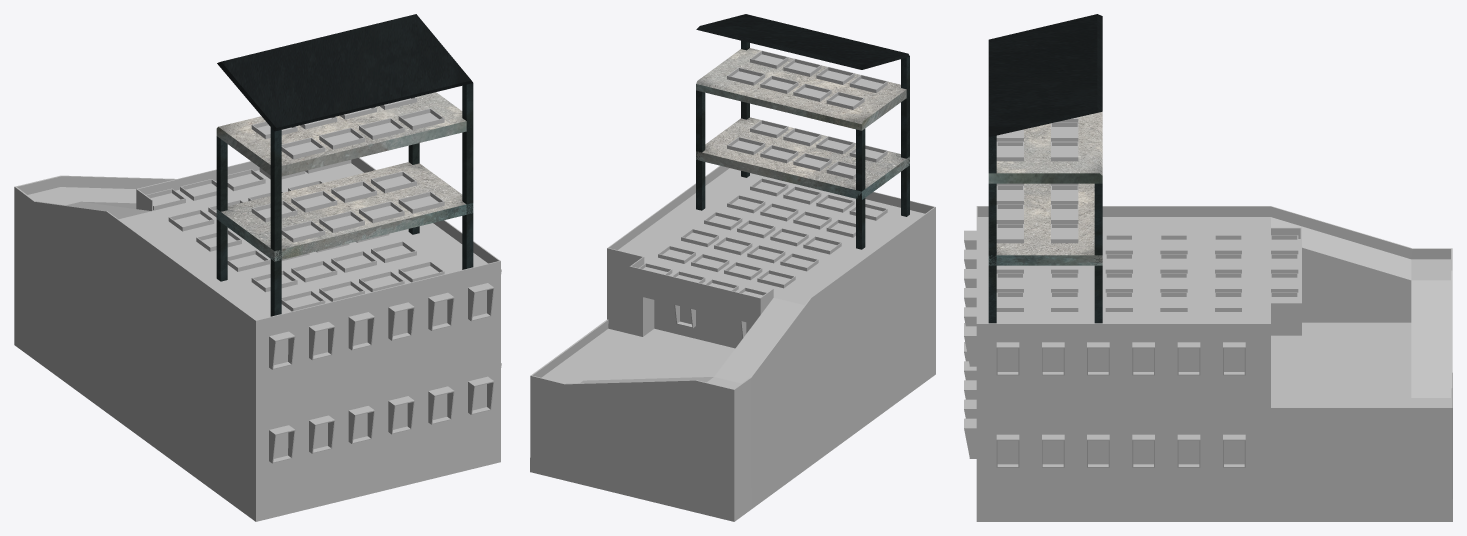
Rendered from ENV_Interest_Garden_v2.fbx.
3 views of the same model, side by side, from view 1: azimuth 30°, elevation 25°; view 2: azimuth 150°, elevation 25°; view 3: azimuth 270°, elevation 25° (orthographic). The views are drawn at different scales.
Parts seen in each view (by area): view 1: ENV_GardenBuilding1, ENV_GardenFloors, ENV_planters; view 2: ENV_GardenBuilding1, ENV_GardenFloors, ENV_planters; view 3: ENV_GardenBuilding1, ENV_GardenFloors, ENV_planters.
Boxes of the visible parts, x1,y1,x2,y2 form: ENV_GardenBuilding1: (14, 157, 501, 521); ENV_GardenFloors: (216, 14, 473, 316); ENV_planters: (146, 97, 444, 311); ENV_GardenBuilding1: (530, 165, 935, 521); ENV_GardenFloors: (696, 14, 909, 249); ENV_planters: (639, 50, 887, 297); ENV_GardenBuilding1: (964, 206, 1452, 521); ENV_GardenFloors: (988, 14, 1102, 323); ENV_planters: (996, 117, 1298, 311).
Size of the model in its own units: 25.74 by 39.29 by 43.19.
